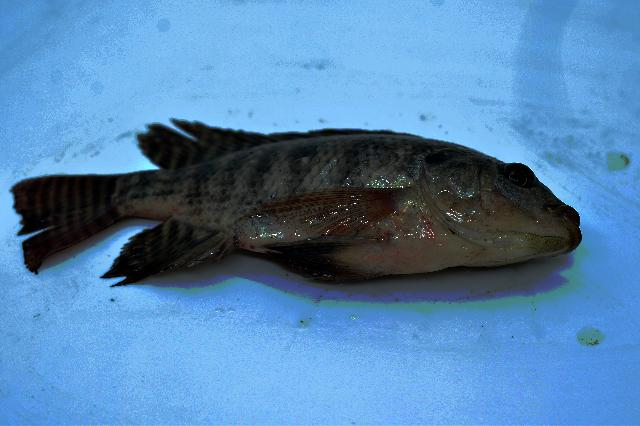Columnaris Disease: (13, 121, 581, 286)
